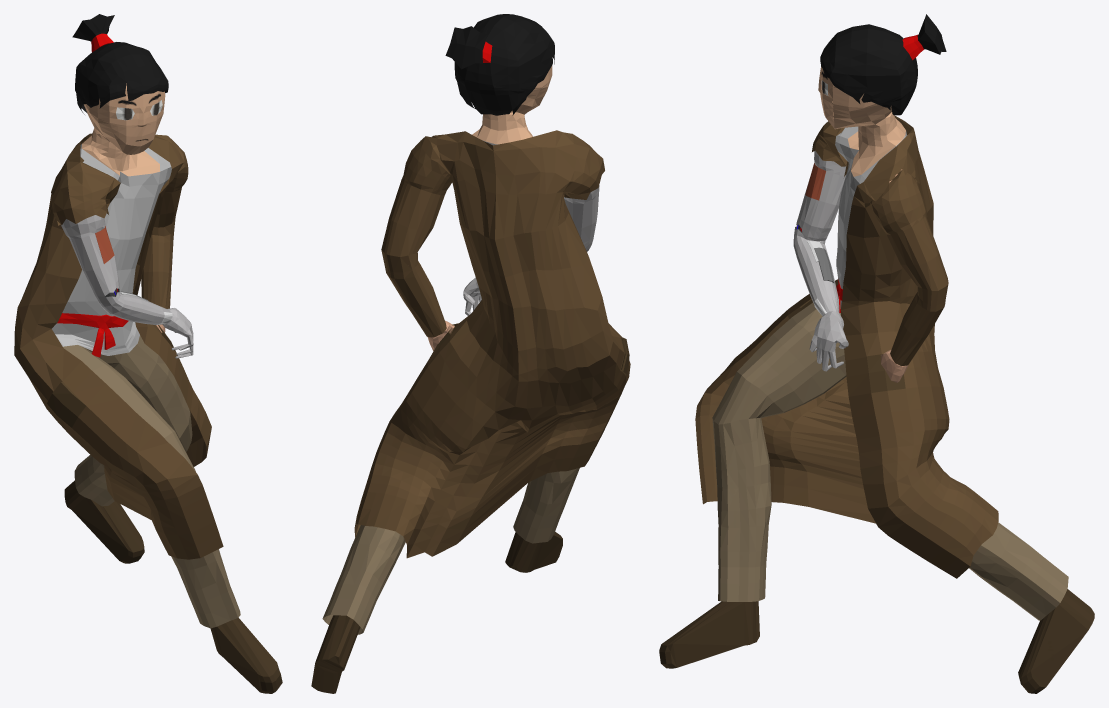
The model's file is One_DR_000008.obj.
3 renders of one model, left to right at view 1: azimuth 30°, elevation 25°; view 2: azimuth 150°, elevation 25°; view 3: azimuth 270°, elevation 25°, orthographic. The views are drawn at different scales.
Visible parts, largest first — view 1: Hair_Cube.004; view 2: Hair_Cube.004; view 3: Hair_Cube.004.
Boxes of the visible parts, x1=… form: Hair_Cube.004: x1=14, y1=14, x2=282, y2=693; Hair_Cube.004: x1=311, y1=14, x2=630, y2=693; Hair_Cube.004: x1=659, y1=14, x2=1094, y2=693.
Bounding box in the file's own units: 1.27 × 3.62 × 2.27.
